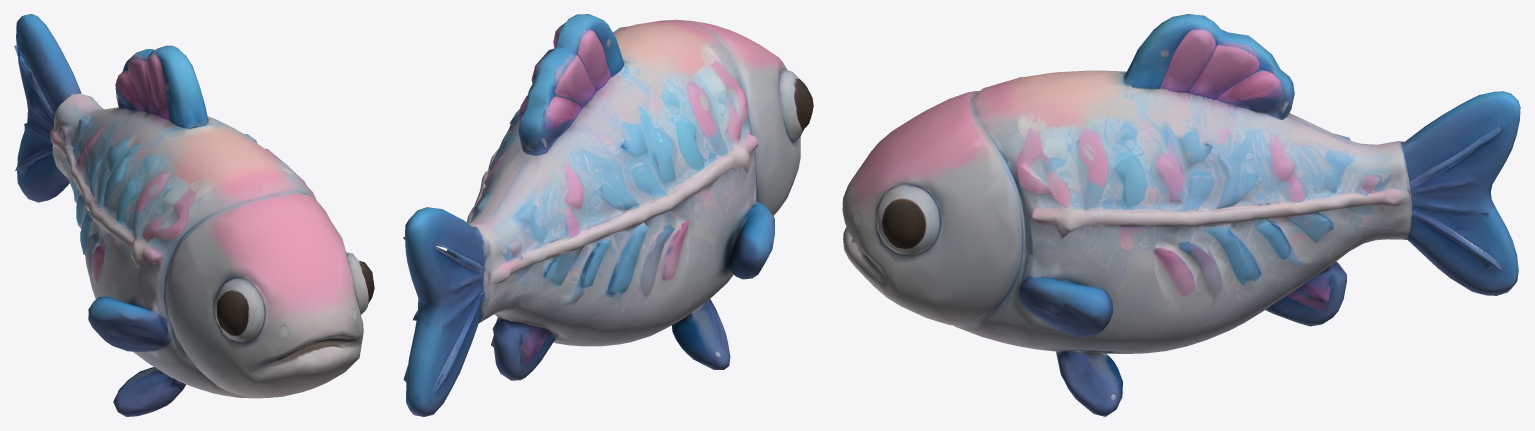
The model's file is pirami.glb.
3 views of the same model, side by side, from view 1: azimuth 30°, elevation 25°; view 2: azimuth 150°, elevation 25°; view 3: azimuth 270°, elevation 25° (orthographic). The views are drawn at different scales.
Parts seen in each view (by area): view 1: tripo_node_cf9ff690-edc8-471d-b22c-019f354629a6; view 2: tripo_node_cf9ff690-edc8-471d-b22c-019f354629a6; view 3: tripo_node_cf9ff690-edc8-471d-b22c-019f354629a6.
Part boxes in pixels (x1,y1,x2,y2): tripo_node_cf9ff690-edc8-471d-b22c-019f354629a6: (14, 14, 374, 416); tripo_node_cf9ff690-edc8-471d-b22c-019f354629a6: (403, 14, 813, 416); tripo_node_cf9ff690-edc8-471d-b22c-019f354629a6: (842, 14, 1520, 416).
Size of the model in its own units: 0.4675 by 0.5768 by 1.
1 material, 1 textured.
